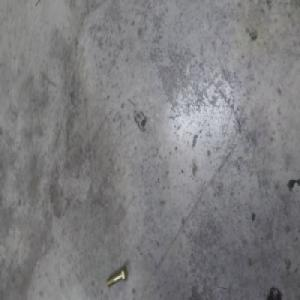Bolt: (107, 265, 129, 289)
